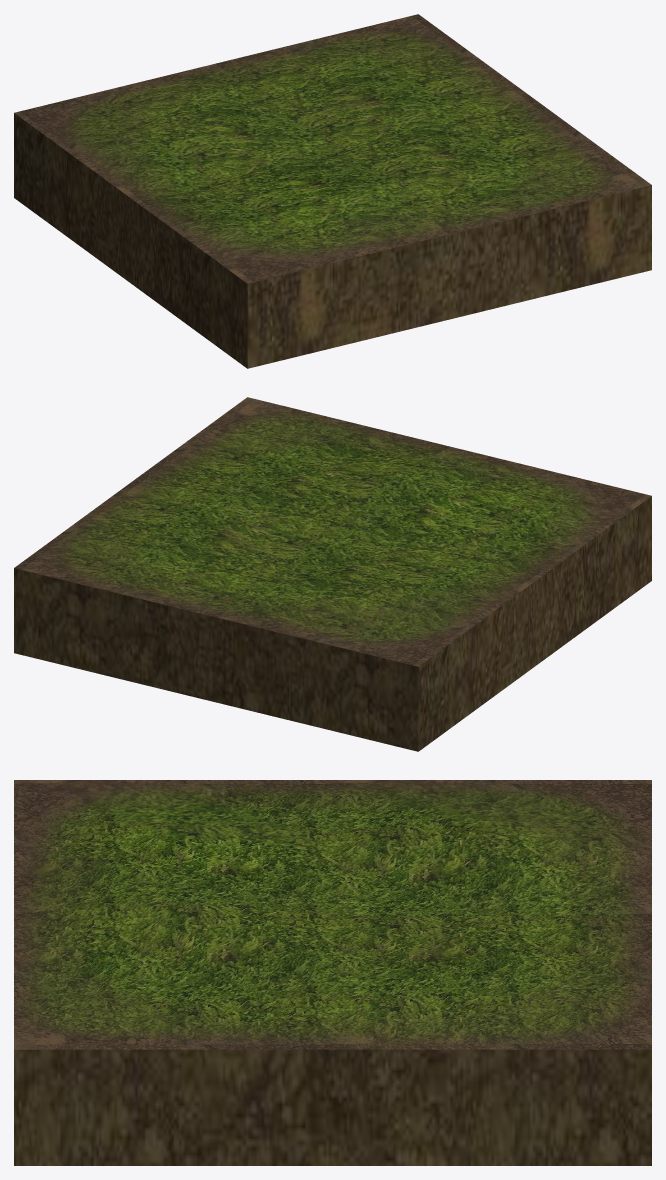
Rendered from GrassFloor2_2021.glb.
3 renders of one model, top to bottom at view 1: azimuth 30°, elevation 25°; view 2: azimuth 150°, elevation 25°; view 3: azimuth 270°, elevation 25°, orthographic. The views are drawn at different scales.
Visible parts, largest first — view 1: Cube; view 2: Cube; view 3: Cube.
Boxes of the visible parts, box(x1,y1,x2,y2) form: Cube: box(14, 14, 651, 368); Cube: box(14, 397, 651, 751); Cube: box(14, 780, 651, 1165).
Bounding box in the file's own units: 2 × 0.4575 × 2.
1 material, 1 textured.
